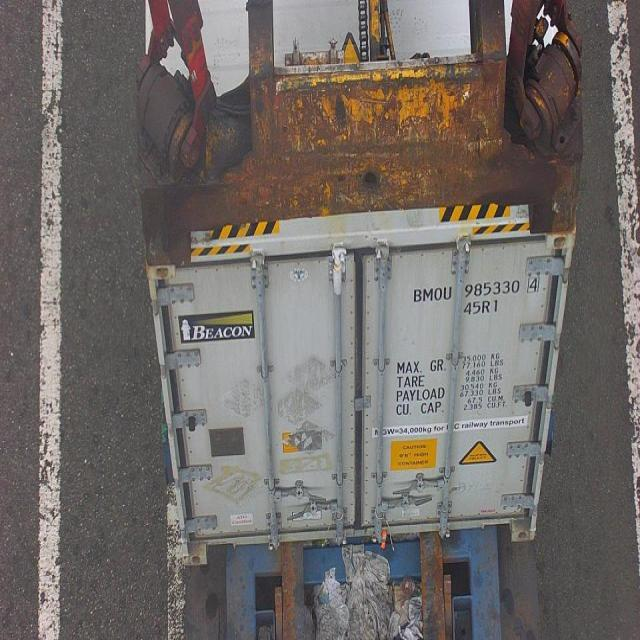ISO: (463, 296, 500, 315)
container_number: (413, 272, 542, 302)
